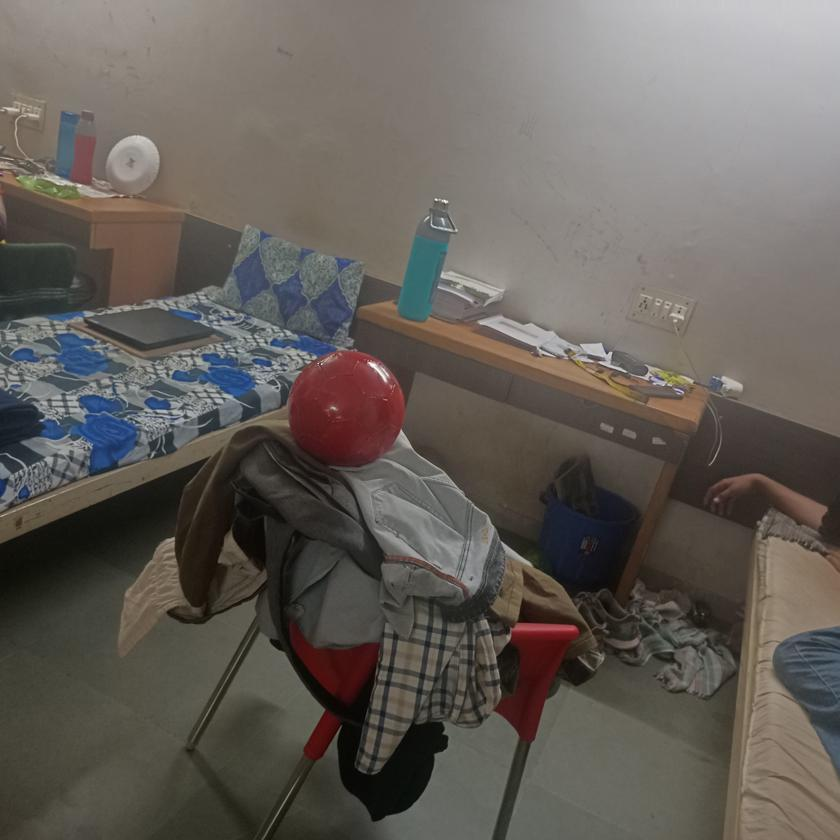Red_Ball: (288, 354, 408, 464)
